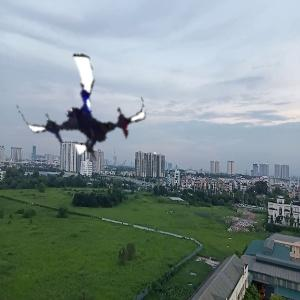drone: (19, 44, 148, 173)
